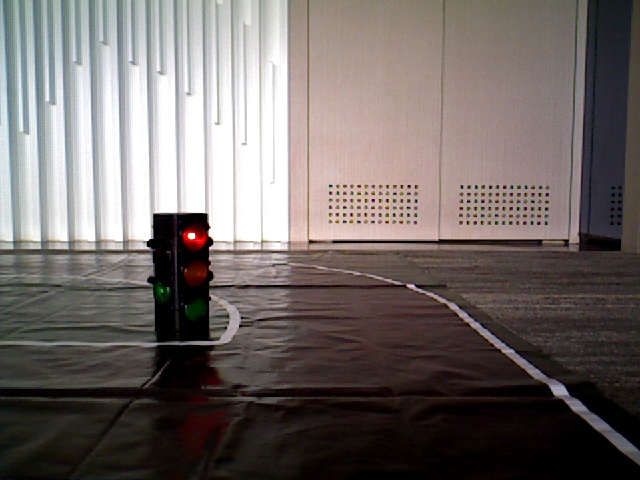red: (168, 217, 206, 331)
